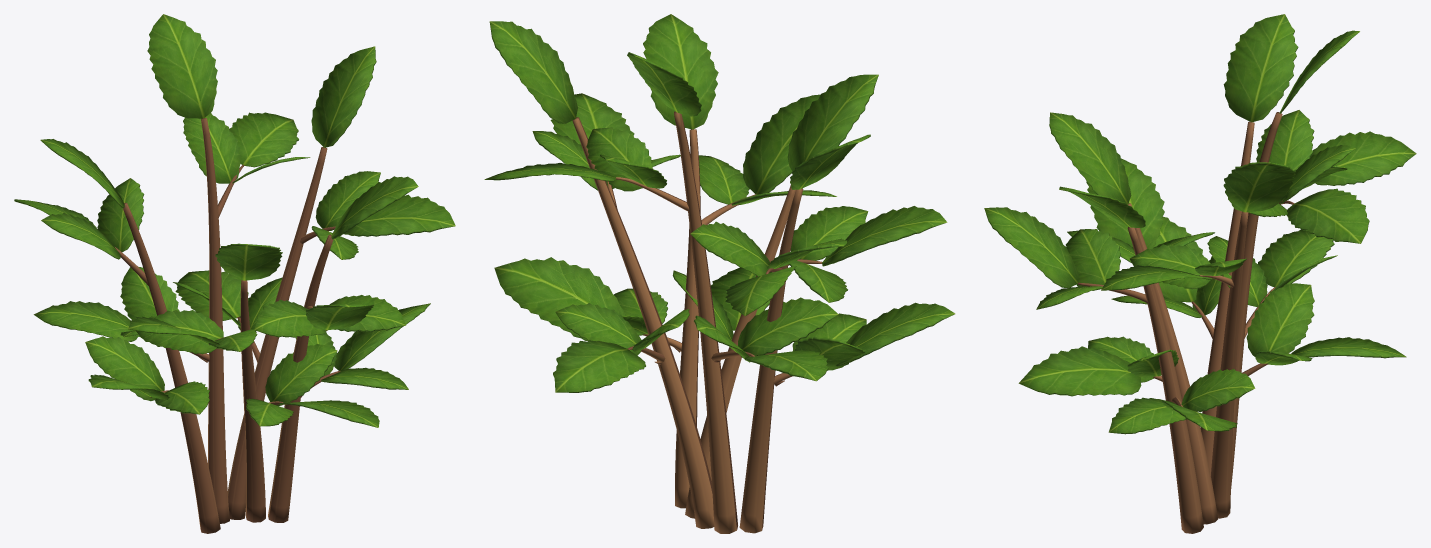
The model's file is NP_Raspberry_Young.fbx.
3 views of the same model, side by side, from view 1: azimuth 30°, elevation 25°; view 2: azimuth 150°, elevation 25°; view 3: azimuth 270°, elevation 25° (orthographic). The views are drawn at different scales.
Parts seen in each view (by area): view 1: NP_Raspberry_Young; view 2: NP_Raspberry_Young; view 3: NP_Raspberry_Young.
Boxes of the visible parts, x1,y1,x2,y2 form: NP_Raspberry_Young: [14, 14, 455, 533]; NP_Raspberry_Young: [484, 14, 955, 533]; NP_Raspberry_Young: [984, 14, 1416, 533].
Size of the model in its own units: 45.47 by 53.7 by 43.78.
